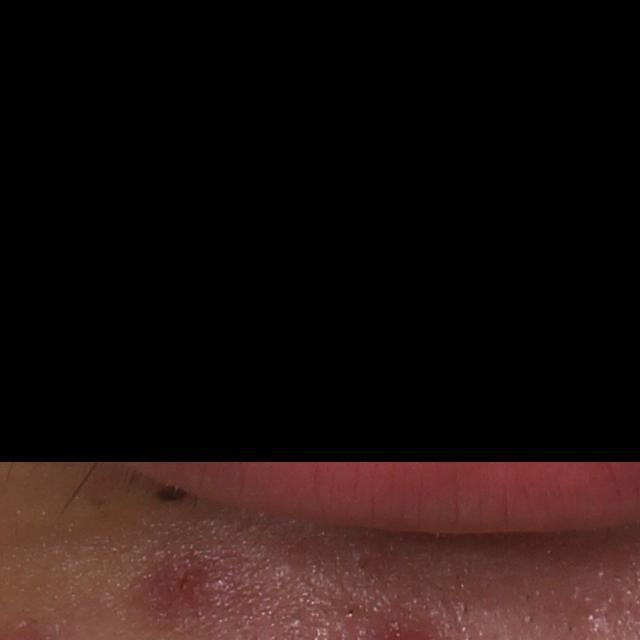nevus: (153, 479, 187, 502)
papule: (149, 551, 244, 613)
